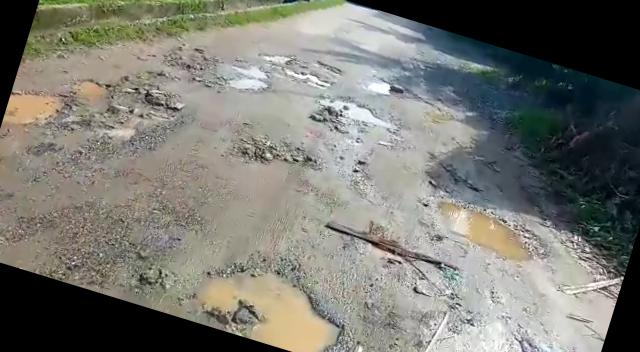pothole: (162, 232, 366, 352), (432, 193, 558, 268), (75, 69, 186, 136), (308, 88, 401, 138), (2, 76, 74, 139), (226, 58, 278, 98), (281, 64, 334, 90), (364, 76, 394, 100), (312, 58, 344, 79)
